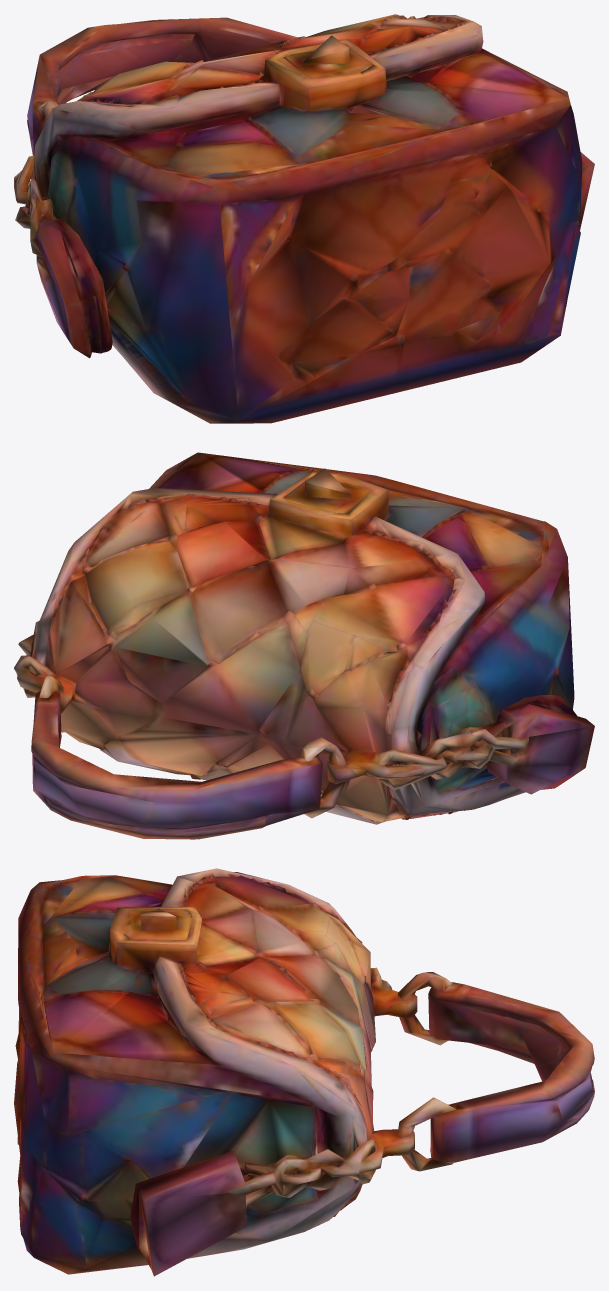
The picture shows the model from 3 angles, top to bottom: view 1: azimuth 30°, elevation 25°; view 2: azimuth 150°, elevation 25°; view 3: azimuth 270°, elevation 25°; orthographic projection. The views are drawn at different scales.
Visible parts, largest first — view 1: material; view 2: material; view 3: material.
Part boxes in pixels (box(x1,y1,x2,y2)): material: box(14, 14, 594, 423); material: box(14, 452, 594, 839); material: box(14, 868, 594, 1276).
Size of the model in its own units: 0.9978 by 0.5479 by 1.
Materials: 1 (1 with a texture image).
